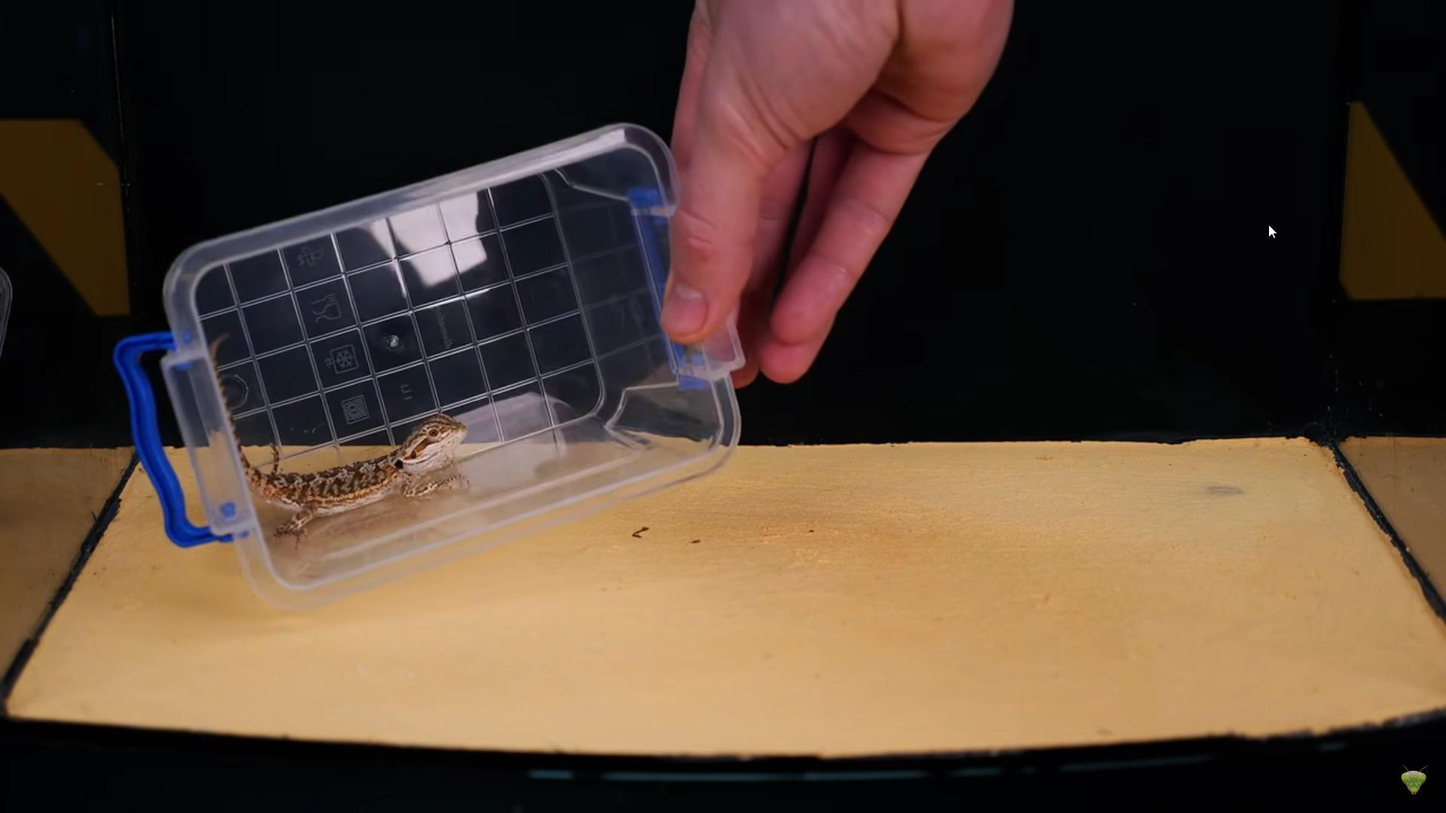lizard: (233, 416, 487, 530)
